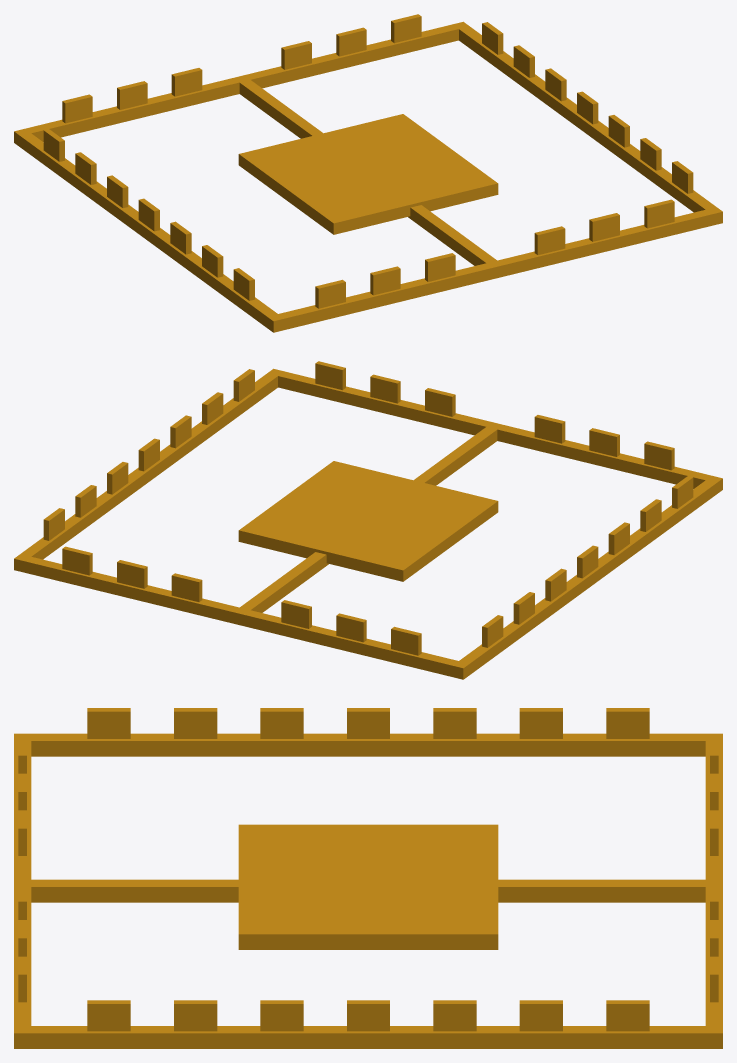
File: GoldenTrap.fbx
The picture shows the model from 3 angles, top to bottom: view 1: azimuth 30°, elevation 25°; view 2: azimuth 150°, elevation 25°; view 3: azimuth 270°, elevation 25°; orthographic projection. The views are drawn at different scales.
Parts seen in each view (by area): view 1: Cube.006; view 2: Cube.006; view 3: Cube.006.
Boxes of the visible parts, box(x1,y1,x2,y2) form: Cube.006: box(14, 14, 722, 332); Cube.006: box(14, 361, 722, 679); Cube.006: box(14, 708, 722, 1048).
Bounding box in the file's own units: 164 × 11 × 164.
